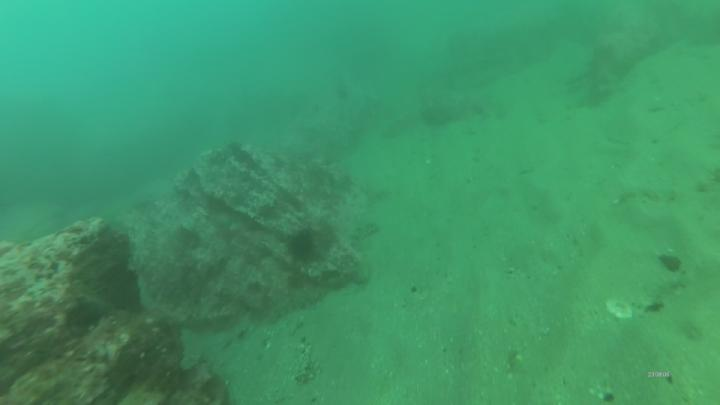echinus: (282, 225, 324, 269)
